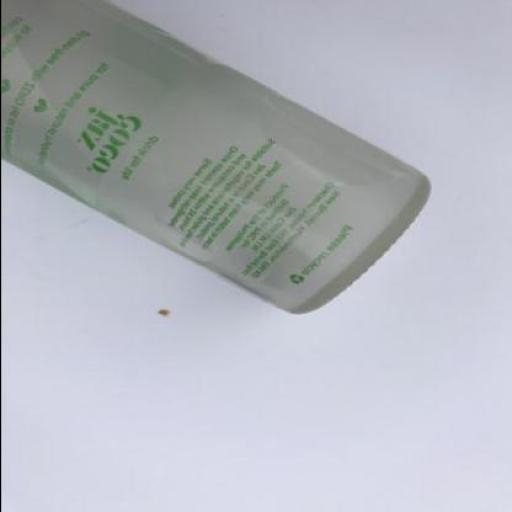glass: (1, 1, 431, 315)
